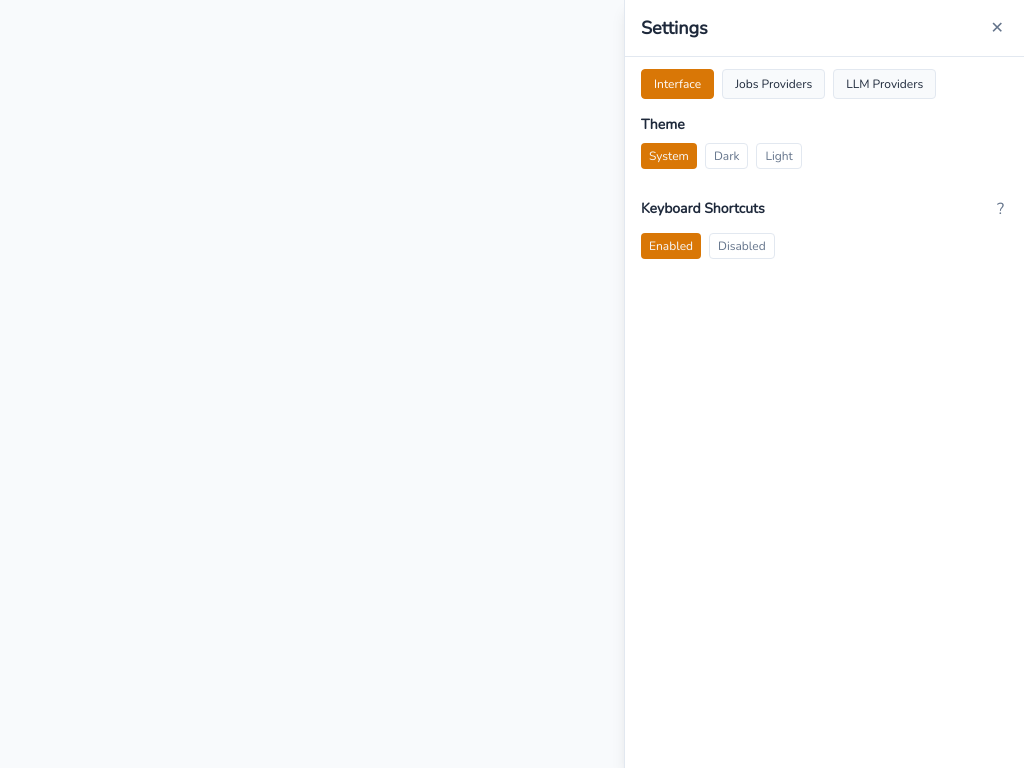
Scenario: SettingsPanel › shows Reed clear controls when key exists
Click the tab "Jobs Providers" at (774, 84), box left=722, top=69, right=825, bottom=99
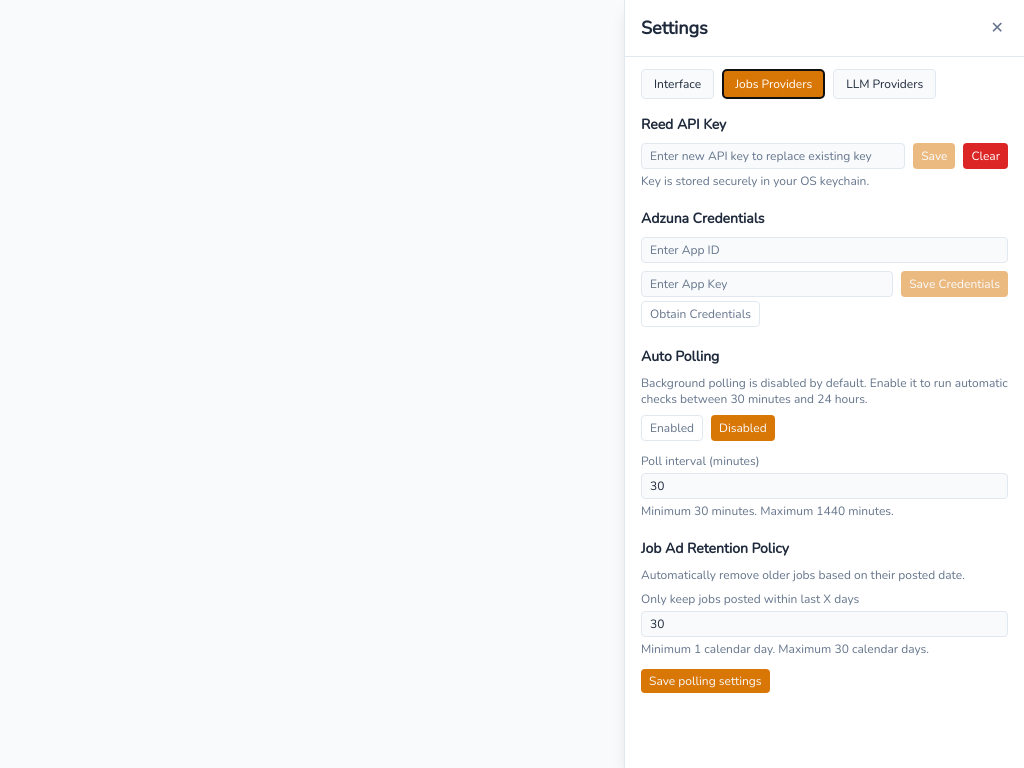
expect the button "Clear" is shown: met, box left=963, top=143, right=1008, bottom=169
expect the text "Key is stored securely in your OS keychain." is shown: met, box left=641, top=173, right=869, bottom=189
